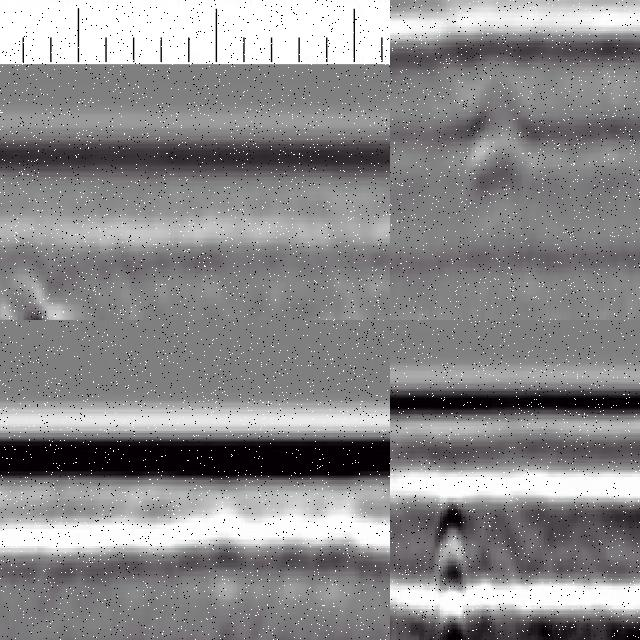crack: (420, 481, 475, 640)
loose: (1, 523, 53, 640)
